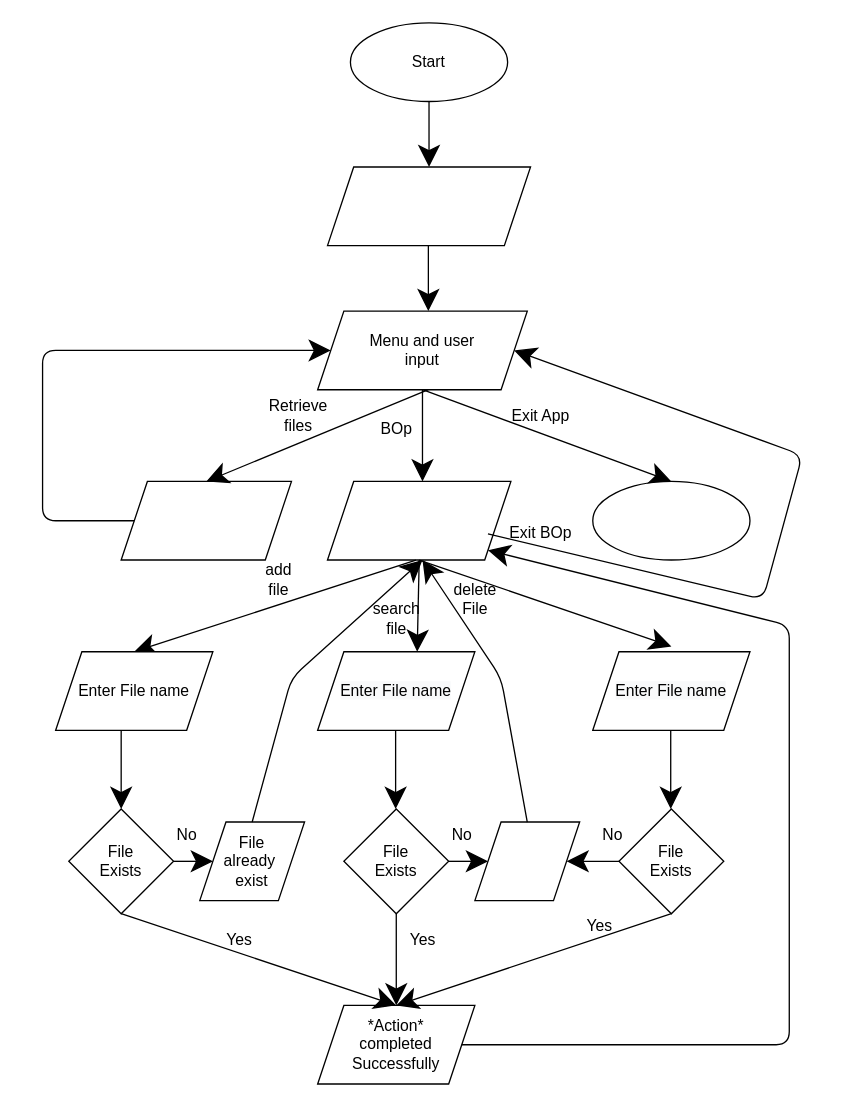
Some shapes in this 846 by 1107 pixel diagram are drawn without their labels. Each missing label, with the centre of its shape:
Business Operation Menu: point (418, 520)
Display files in ascending order: point (205, 520)
Exit Application: point (670, 520)
File doesnt exist: point (527, 861)
Home Page: point (428, 206)
